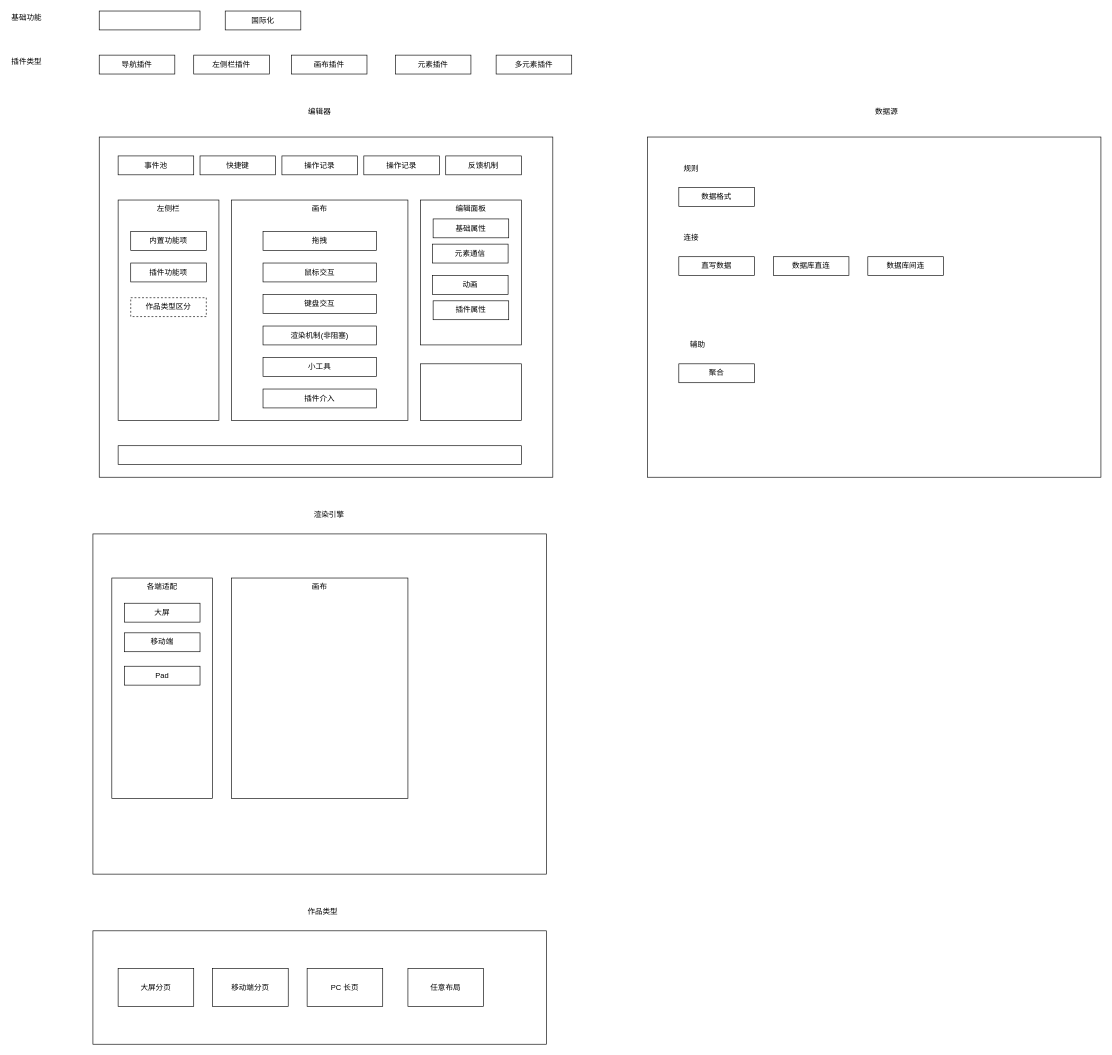
Image size: 1112x1055. Some labels were removed from this diagram. The shapes that lost their labels are listed below. From the top down, each one's centre as x and y in pixels, then its label:
point (149, 20): 主题: default/dark/custom
point (470, 392): 弹窗扩展
point (319, 455): 端: BS/CS
